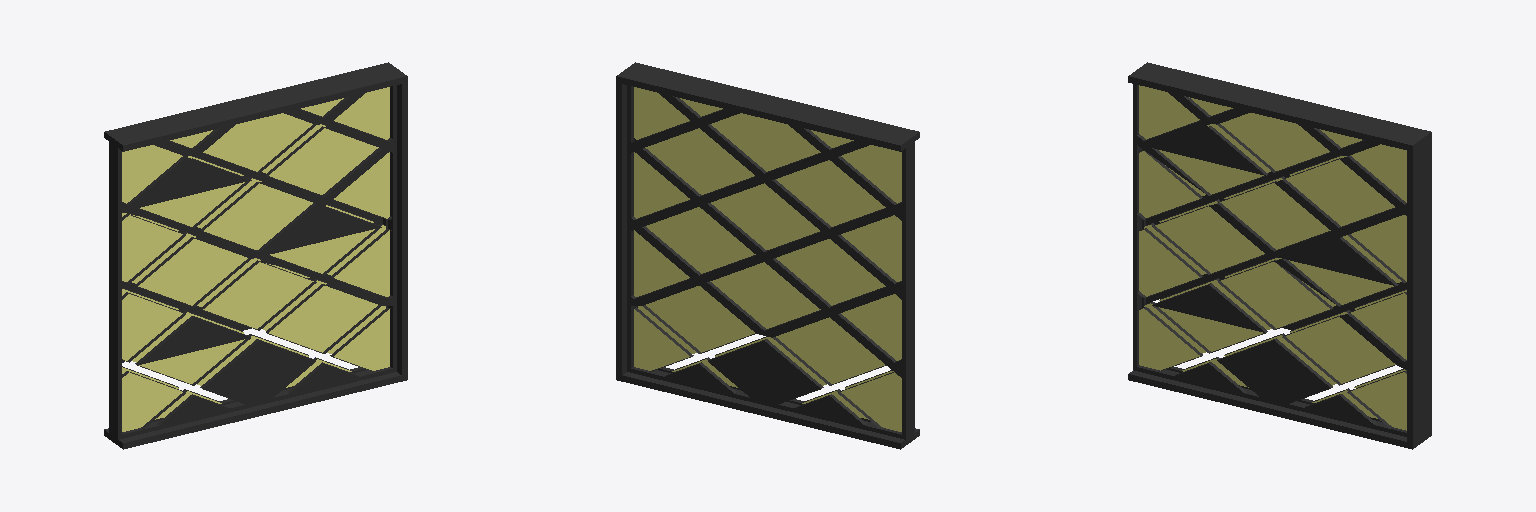
File: filter.obj
3 renders of one model, left to right at view 1: azimuth 30°, elevation 25°; view 2: azimuth 150°, elevation 25°; view 3: azimuth 330°, elevation 25°, orthographic.
Parts seen in each view (by area): view 1: Filter_FilterGeom; view 2: Filter_FilterGeom; view 3: Filter_FilterGeom.
Part boxes in pixels (bbox=[...]): Filter_FilterGeom: bbox=[104, 62, 407, 449]; Filter_FilterGeom: bbox=[616, 62, 919, 449]; Filter_FilterGeom: bbox=[1128, 62, 1431, 449].
Size of the model in its own units: 1.71 by 1.75 by 0.1972.